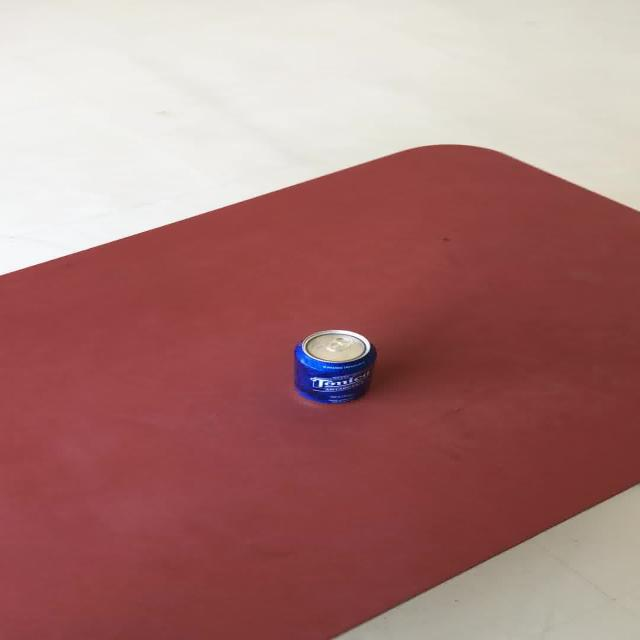tonic: (291, 329, 376, 404)
